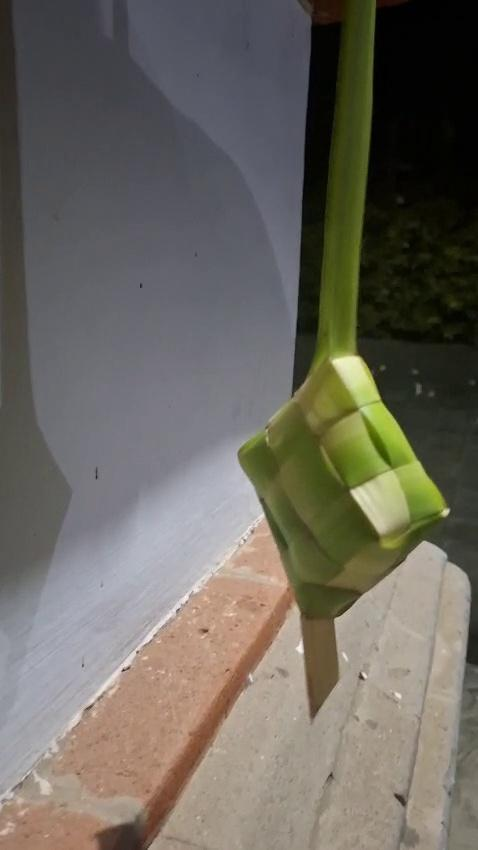Tipat Nasi: (229, 354, 452, 710)
